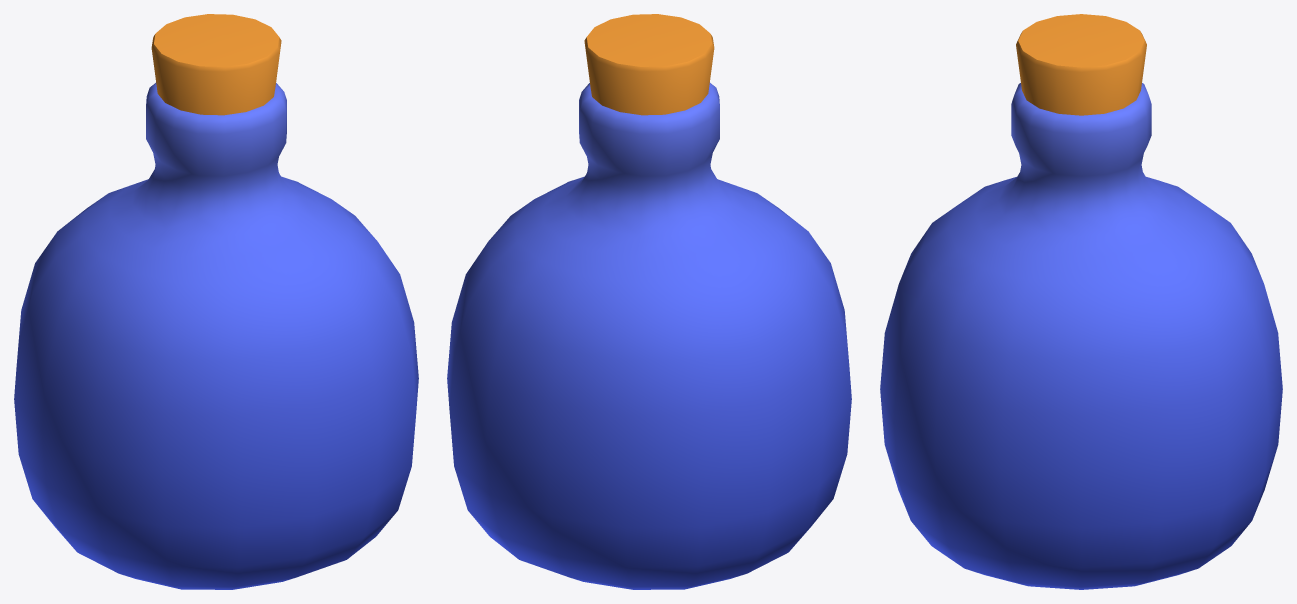
Rendered from Potion_Bottle_02.glb.
The picture shows the model from 3 angles, left to right: view 1: azimuth 30°, elevation 25°; view 2: azimuth 150°, elevation 25°; view 3: azimuth 270°, elevation 25°; orthographic projection.
Visible parts, largest first — view 1: Potion_Bottle_02; view 2: Potion_Bottle_02; view 3: Potion_Bottle_02.
Part boxes in pixels (x1,y1,x2,y2): Potion_Bottle_02: (14, 14, 418, 589); Potion_Bottle_02: (447, 14, 851, 589); Potion_Bottle_02: (880, 14, 1282, 589).
Size of the model in its own units: 0.2466 by 0.3384 by 0.2466.
Materials: 1 (1 with a texture image).
